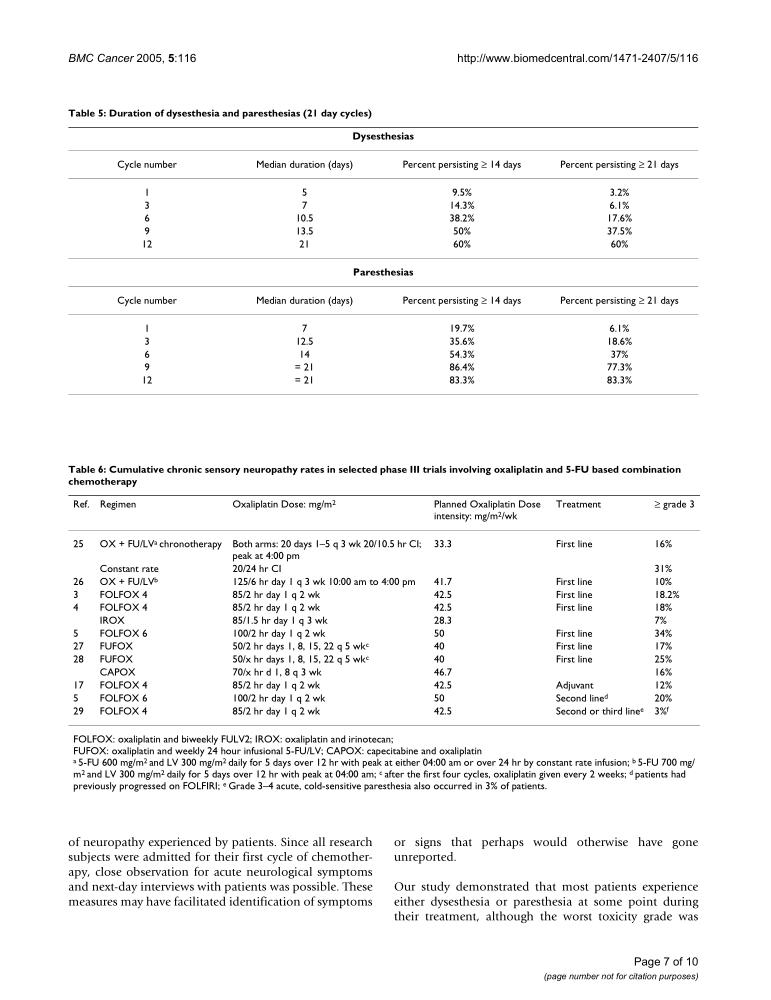table: (117, 129, 678, 385), (73, 497, 694, 716)
